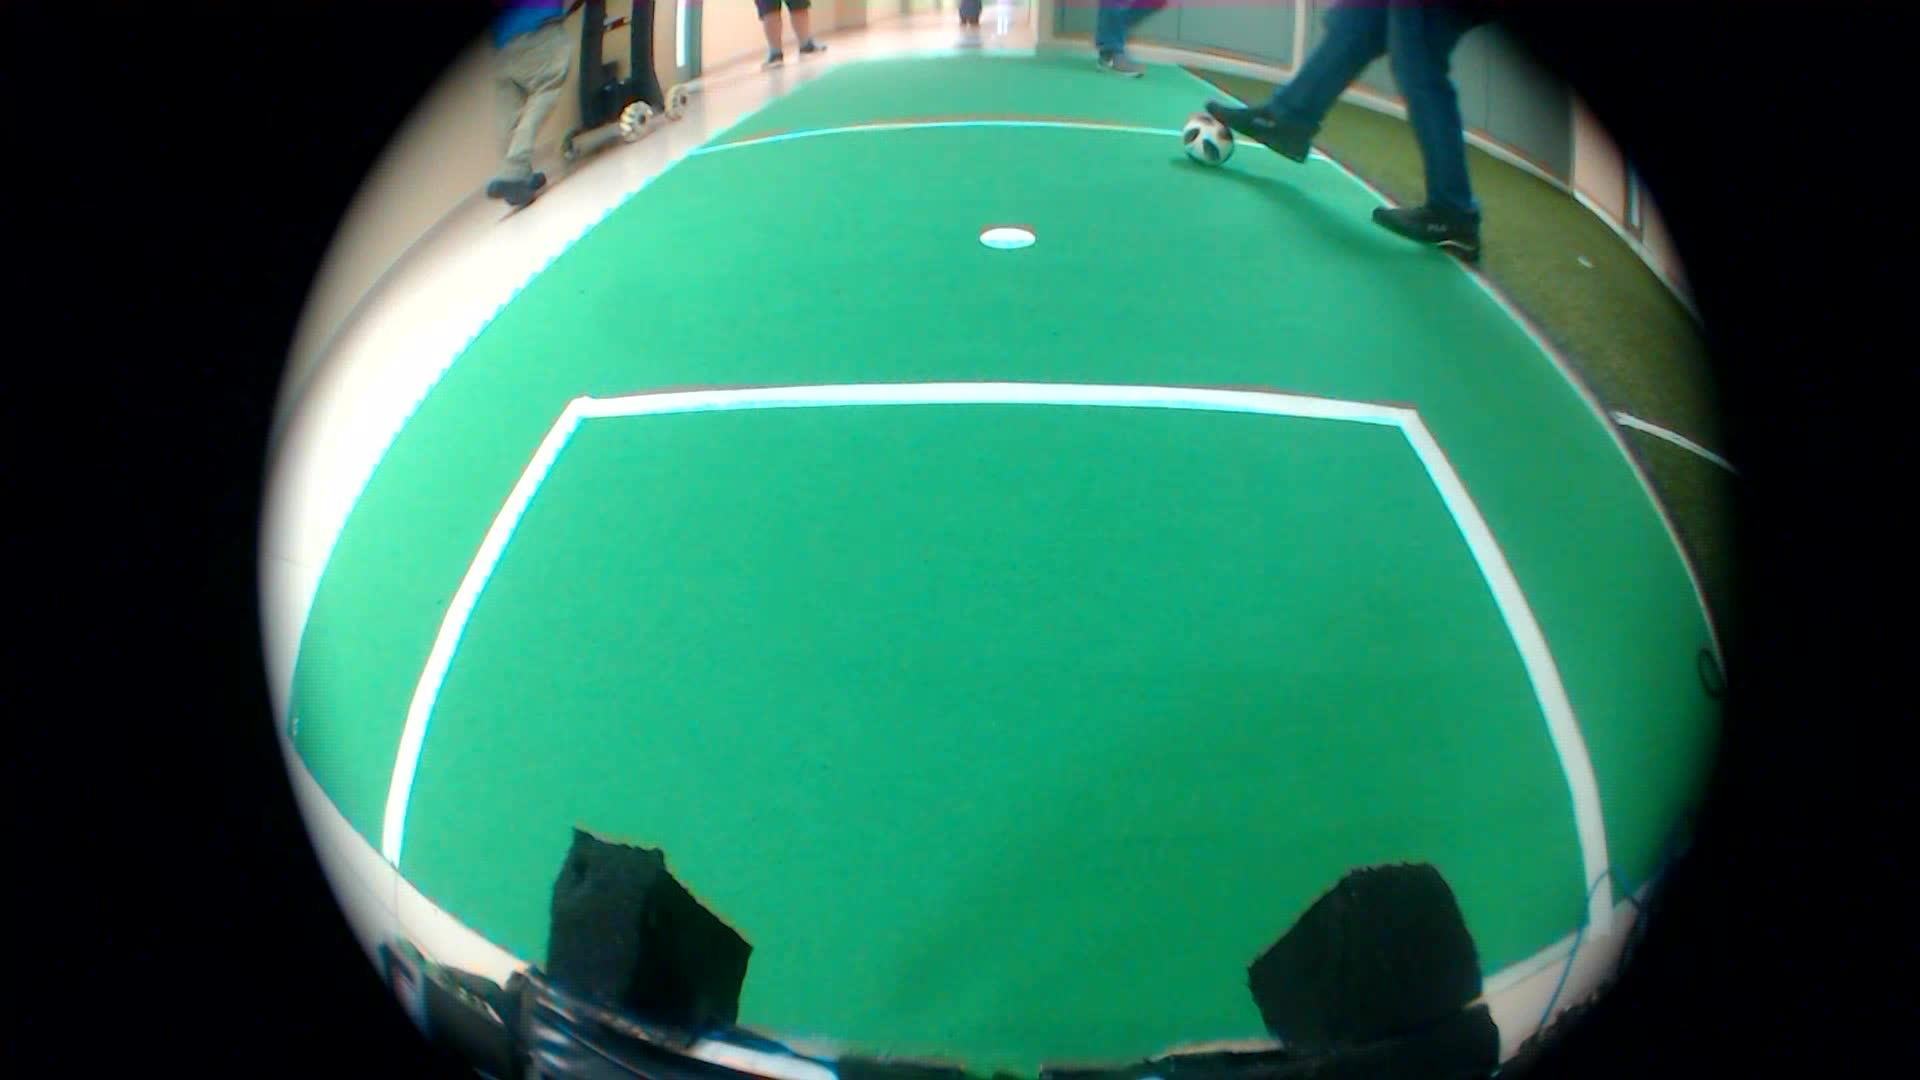ball: (1172, 102, 1232, 174)
